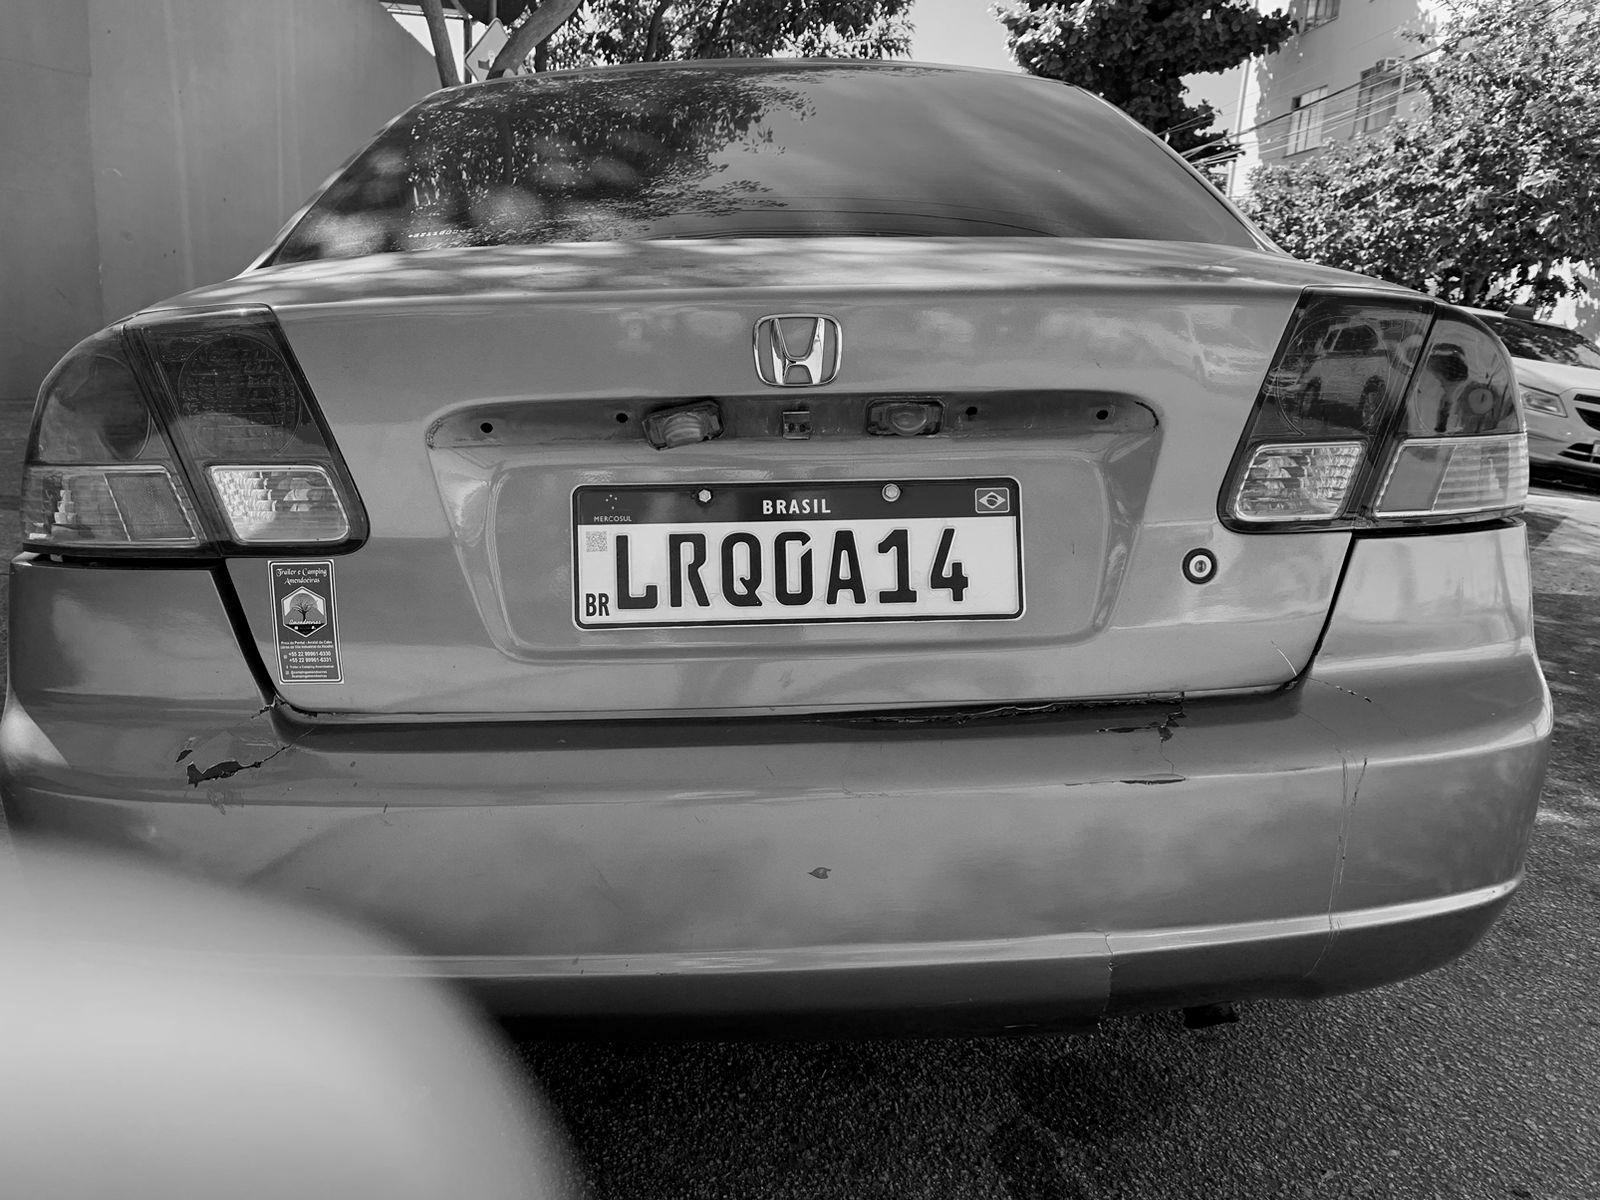placa_mercosul: (574, 479, 1023, 628)
